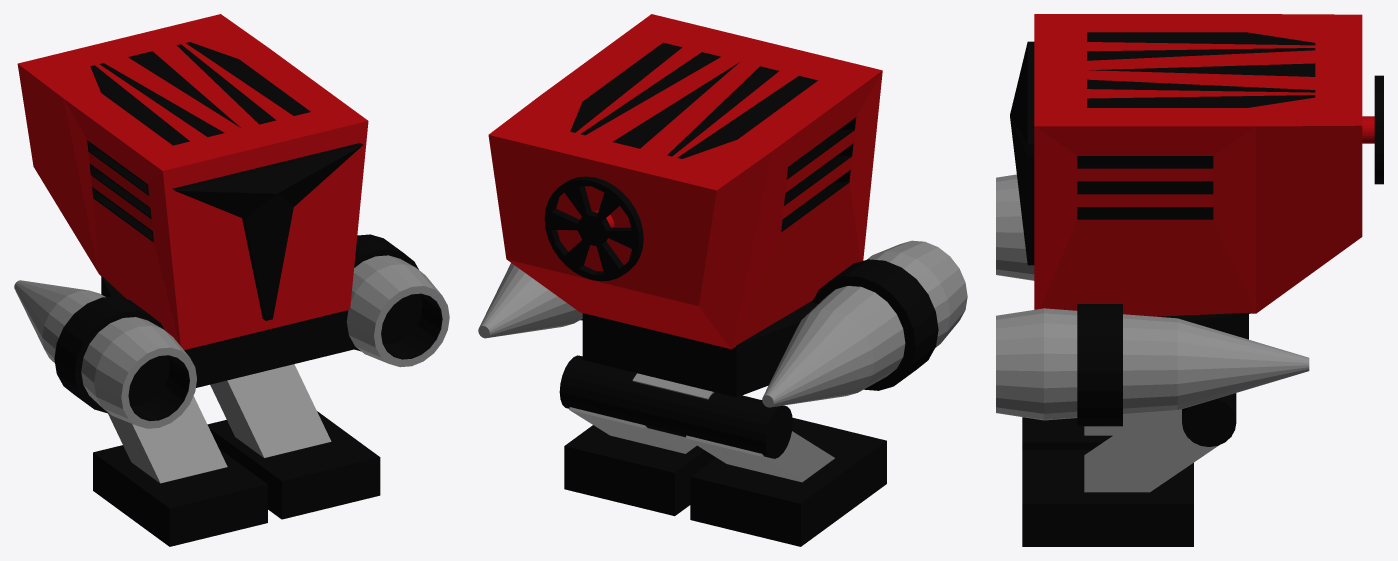
The model's file is Enemy2Model.fbx.
3 views of the same model, side by side, from view 1: azimuth 30°, elevation 25°; view 2: azimuth 150°, elevation 25°; view 3: azimuth 270°, elevation 25° (orthographic). The views are drawn at different scales.
Visible parts, largest first — view 1: Cube.034, Cylinder.004; view 2: Cube.034, Cylinder.004; view 3: Cube.034, Cylinder.004.
Boxes of the visible parts, x1,y1,x2,y2 form: Cube.034: [17, 14, 368, 349]; Cylinder.004: [14, 234, 449, 546]; Cube.034: [488, 14, 882, 349]; Cylinder.004: [478, 240, 967, 546]; Cube.034: [1010, 14, 1383, 316]; Cylinder.004: [996, 174, 1309, 546].
Size of the model in its own units: 305 by 311 by 262.
